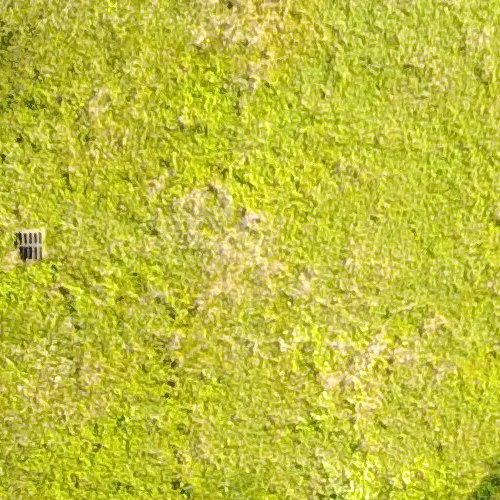grate: (6, 215, 61, 276)
no larvae: (4, 213, 59, 274)
